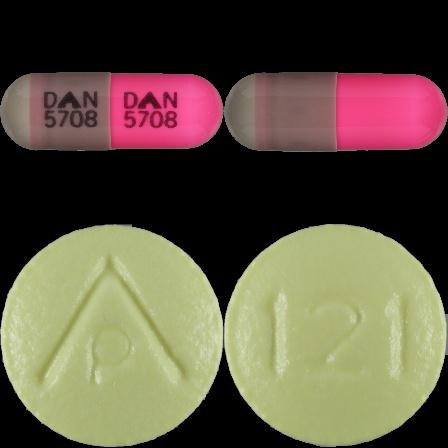63629-2817: (0, 0, 224, 224)
